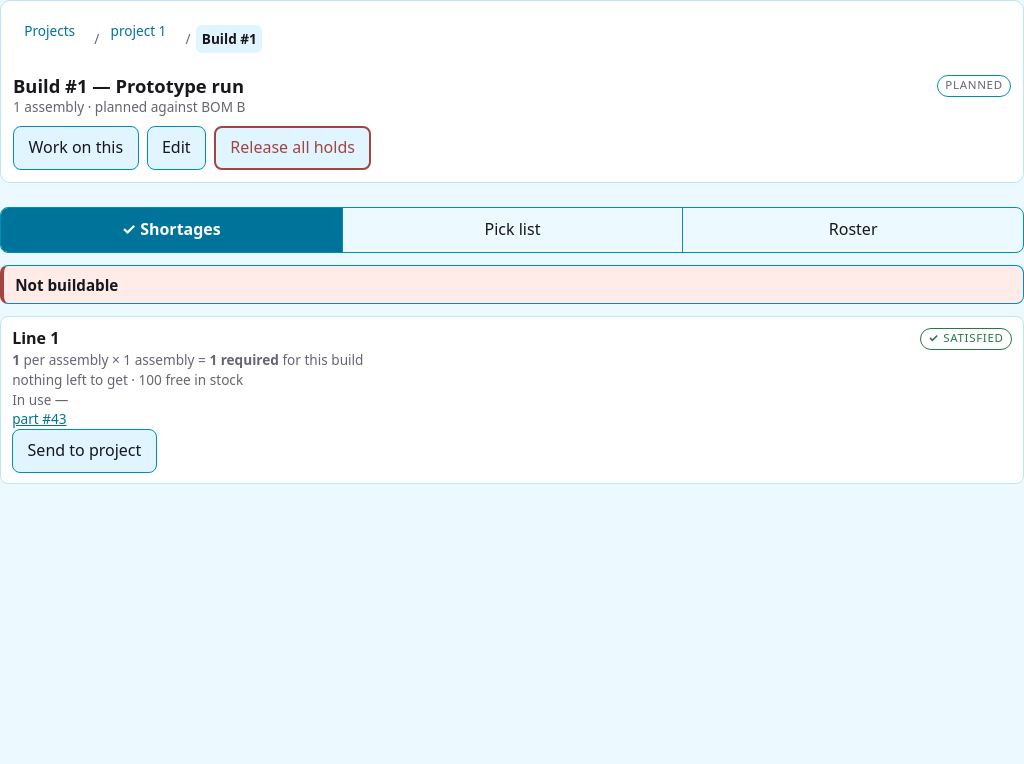
Test: changing the assembly count › raising it from 1 to 3 triples the required quantity the report shows
The width and height of the screenshot is (1024, 764).
Expected: the text "1 required" is shown, 209,350 -> 279,369
Click the button "Edit": (176, 148) 146,126 -> 206,170
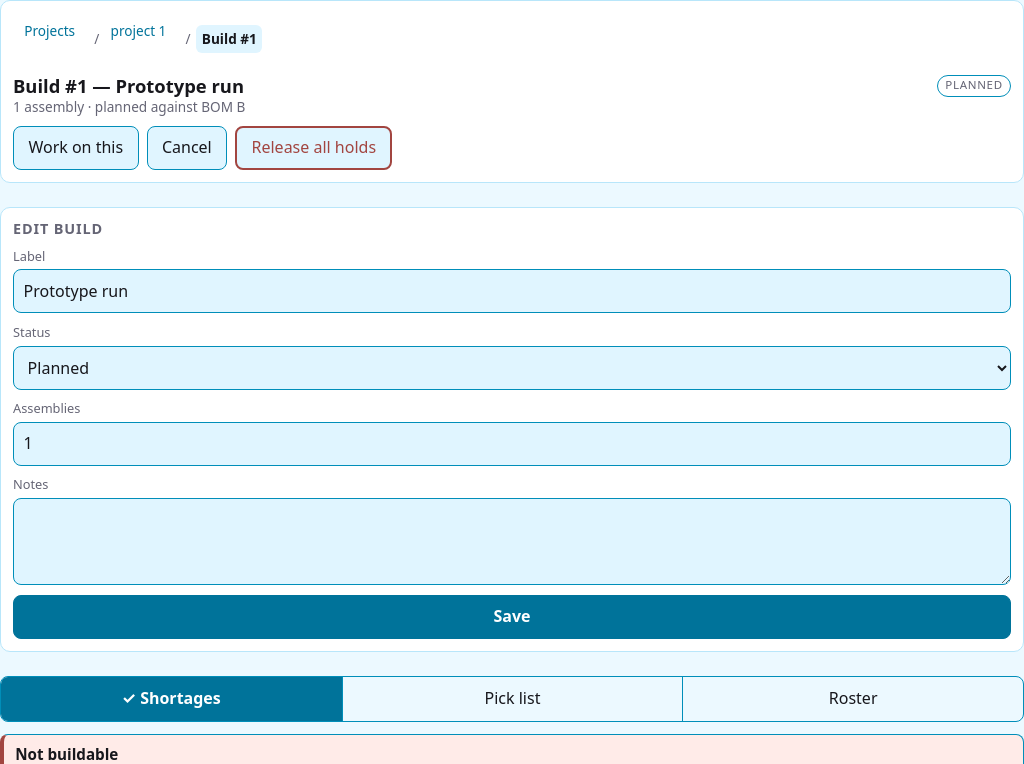
Replace the text in the number field labelled "Assemblies" with "3": (512, 444) 13,422 -> 1011,466
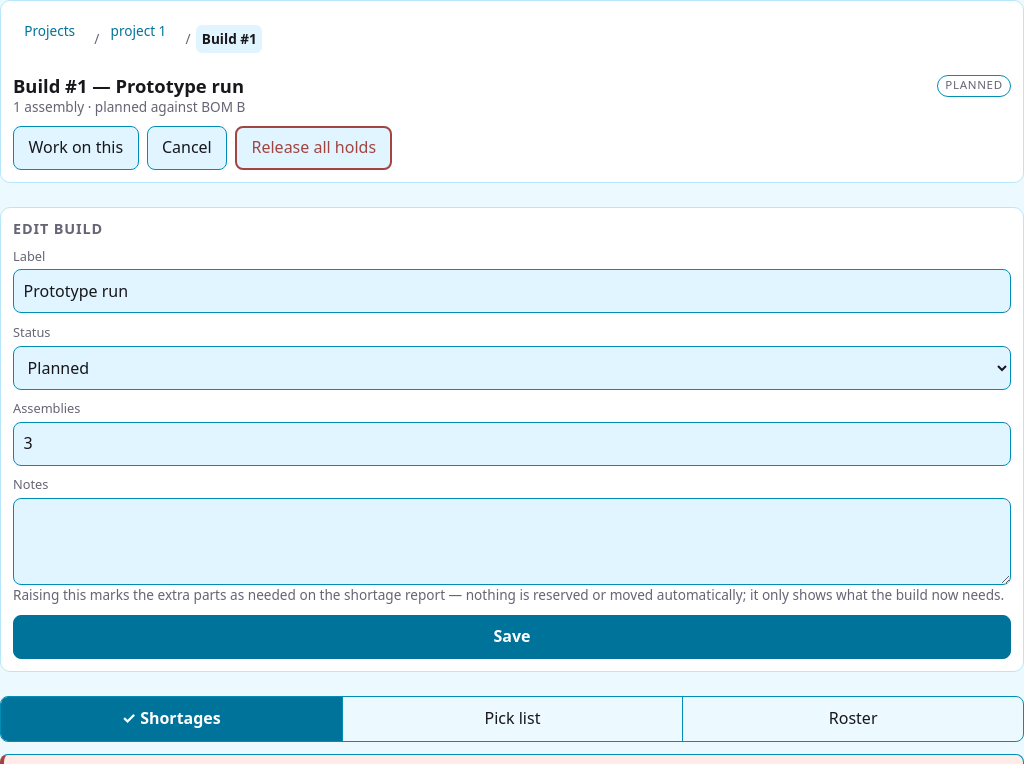
Click the button "Save": (512, 637) 13,615 -> 1011,659
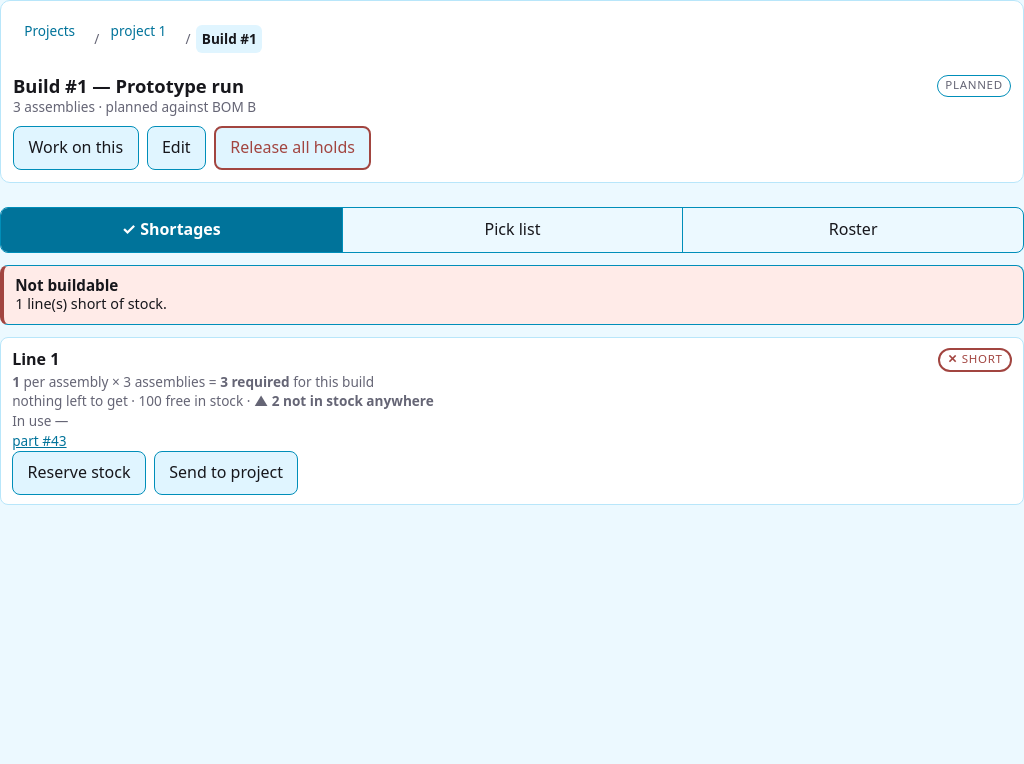
Result: the text "3 required" is shown at 220,372 -> 290,391
Result: the text "1 per assembly × 3 assemblies = 3 required for this build" is shown at 12,372 -> 374,391
Result: the text "▲ 2 not in stock anywhere" is shown at 254,391 -> 434,410
